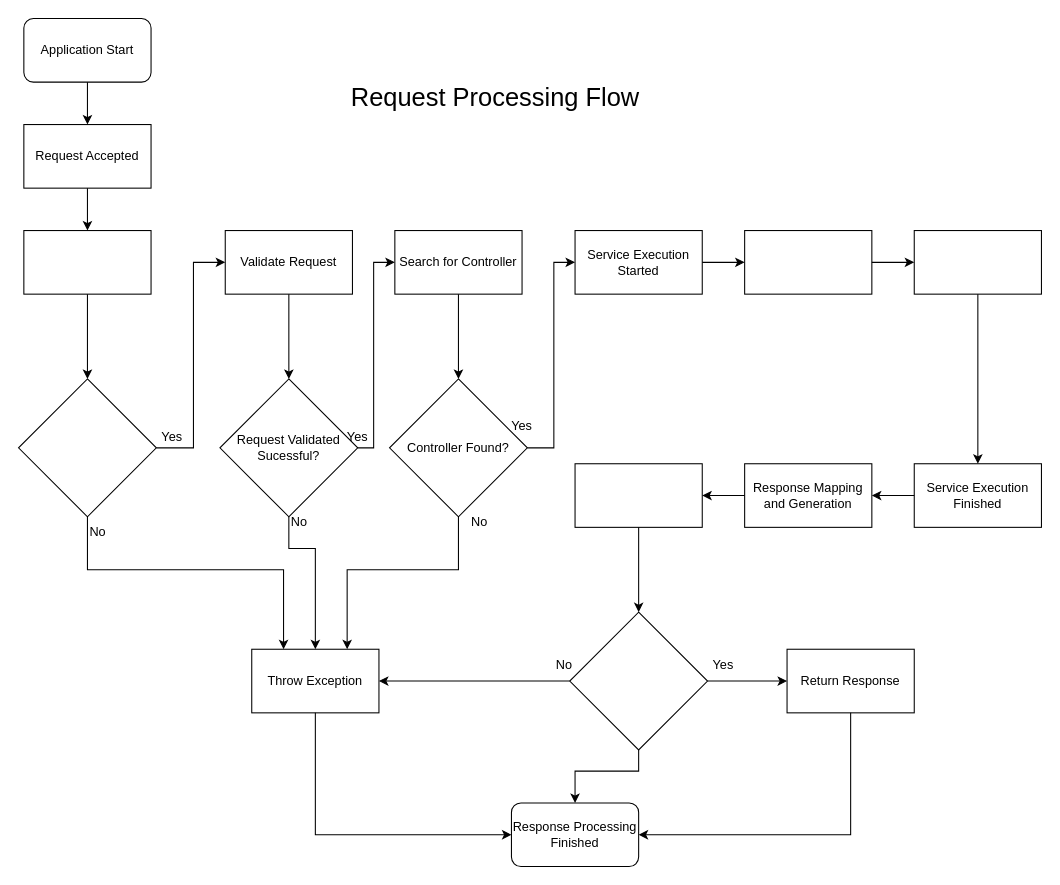
Some shapes in this 1060 by 885 pixel diagram are drawn without their labels. Here are the shapes that lost their labels. From the top down, the centre of each, then its label:
the point at 87,261: Search For OpenAPI Defintion
the point at 808,261: Execute Service Validators
the point at 977,261: Execute Service Busines Logic
the point at 86,447: OpenAPI Defintion Found ?
the point at 638,495: Response Validation
the point at 638,680: Response Validation Successful
